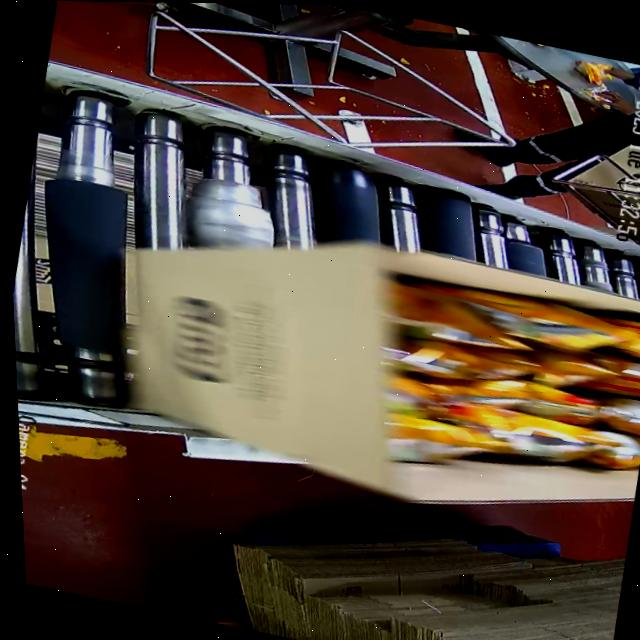FRENCH_CHEESE: (372, 277, 640, 484)
